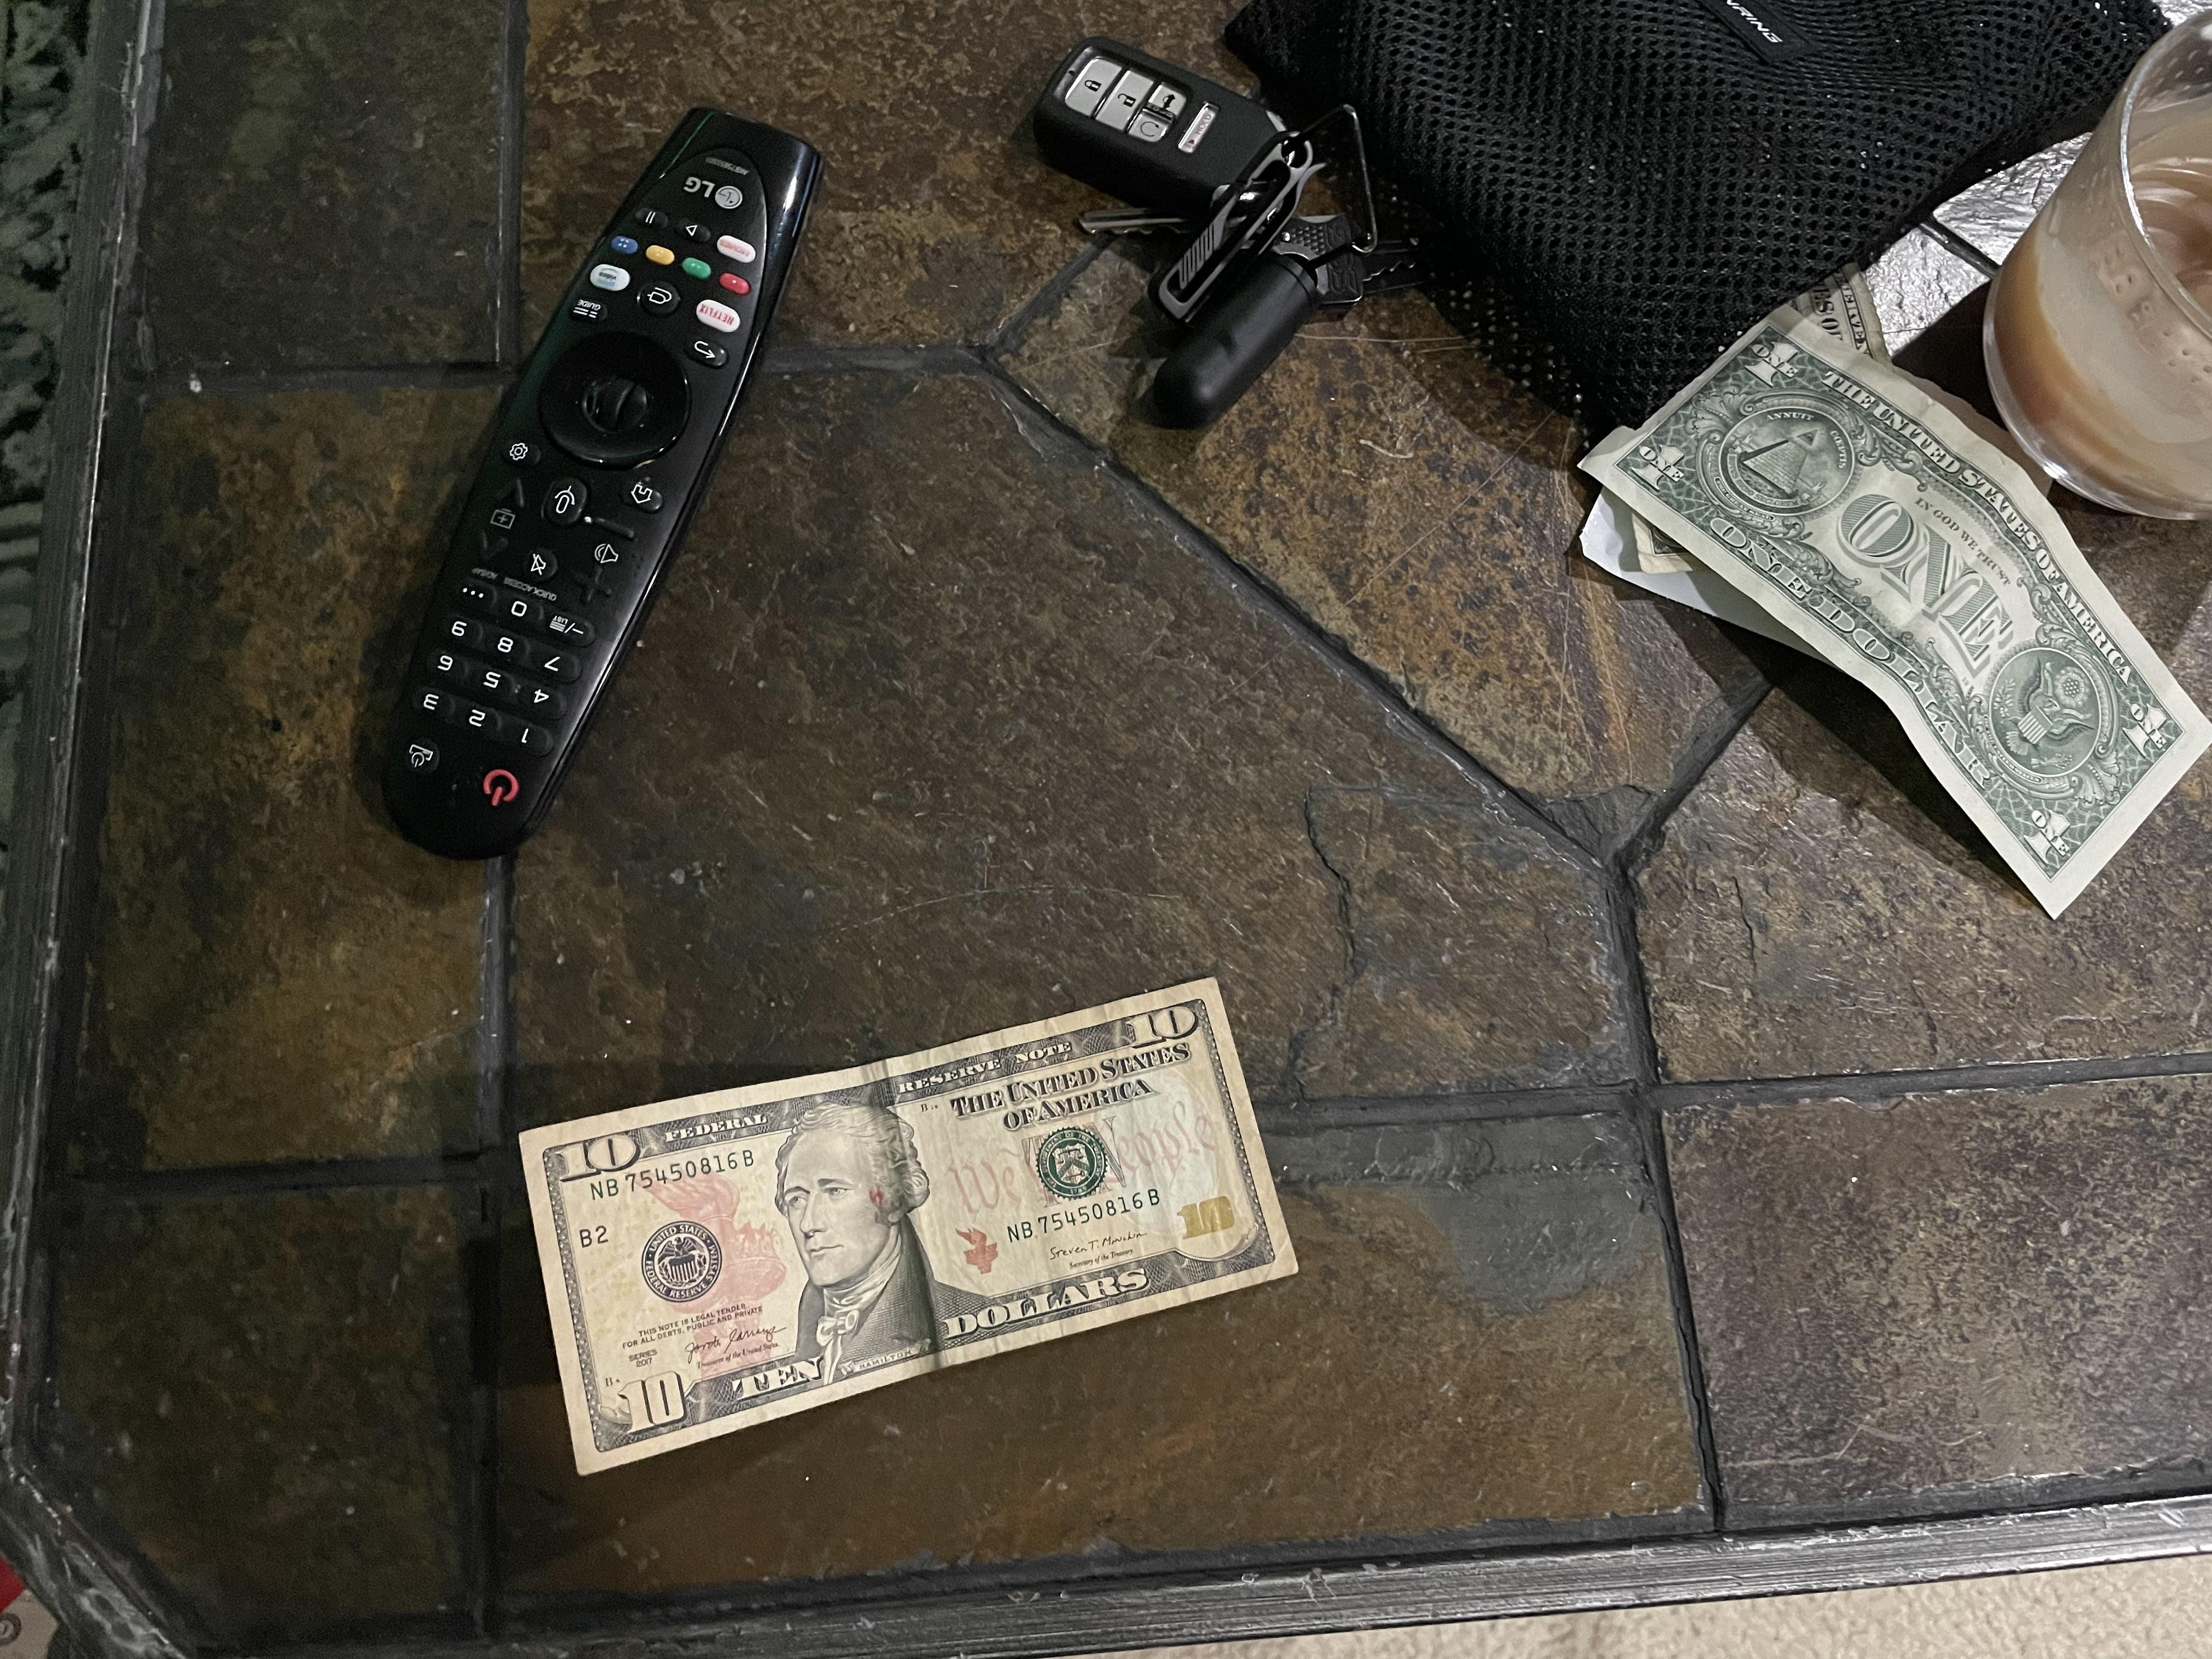OneBill: (524, 967, 1318, 1495), (1555, 289, 2210, 918)
